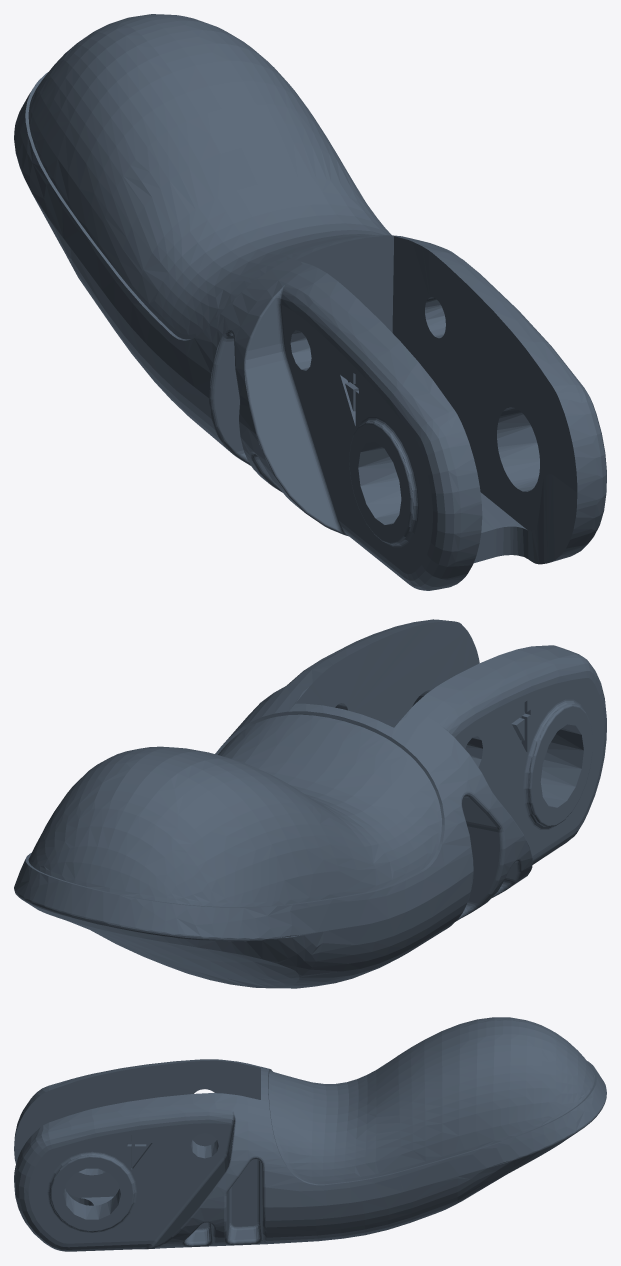
Rendered from L_little_dist.dae.
3 renders of one model, top to bottom at view 1: azimuth 30°, elevation 25°; view 2: azimuth 150°, elevation 25°; view 3: azimuth 270°, elevation 25°, orthographic. The views are drawn at different scales.
Visible parts, largest first — view 1: L_little_dist; view 2: L_little_dist; view 3: L_little_dist.
Part boxes in pixels (x1,y1,x2,y2): L_little_dist: [14, 14, 606, 590]; L_little_dist: [14, 619, 606, 988]; L_little_dist: [14, 1017, 606, 1251].
Size of the model in its own units: 0.0147 by 0.0422 by 0.0163.
